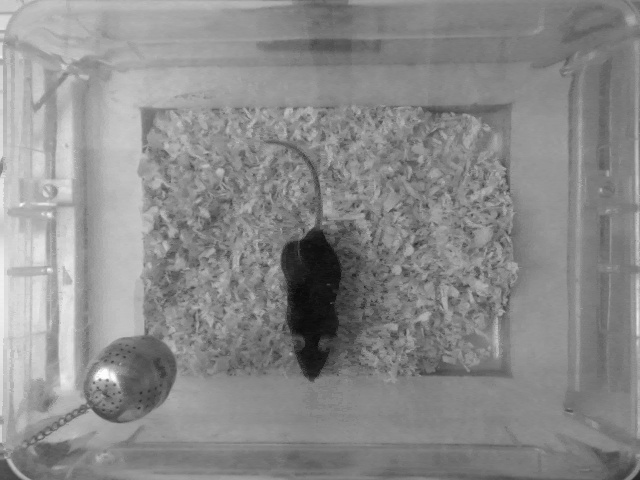mice: (261, 137, 342, 383)
